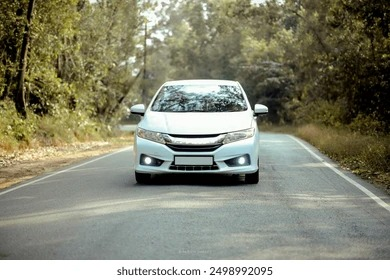car: (133, 78, 259, 184)
